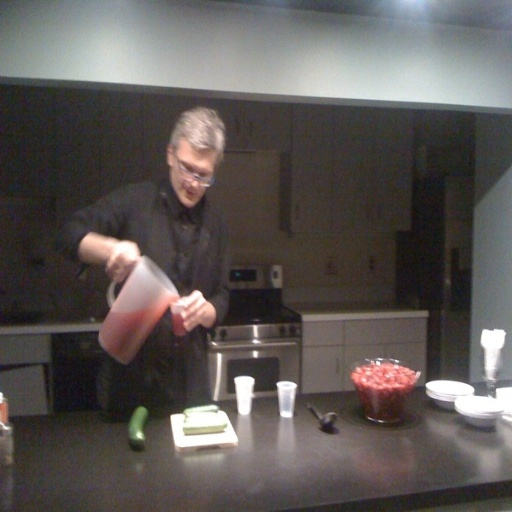hand: (166, 285, 209, 340), (104, 238, 140, 285)
